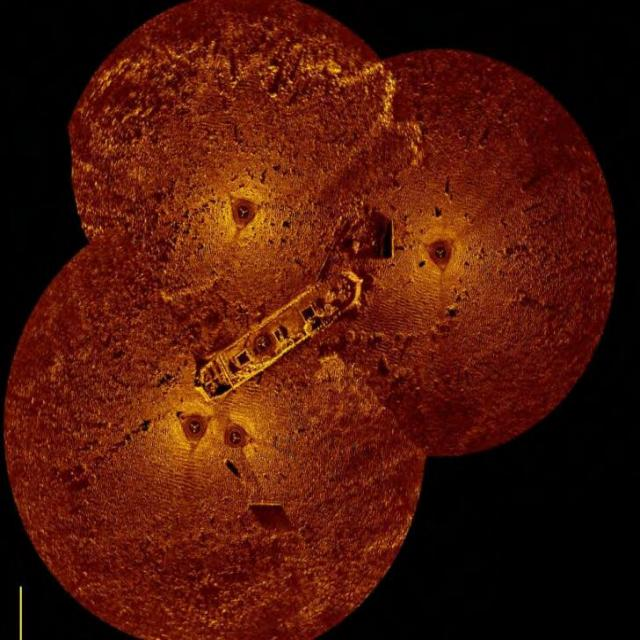ship: (197, 267, 366, 403)
